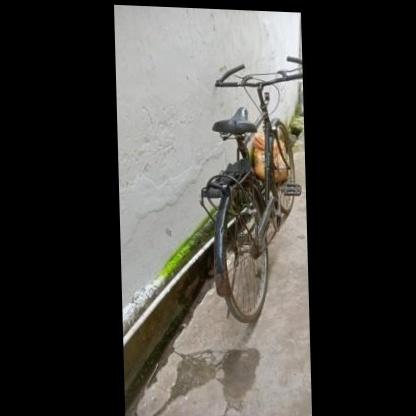Bicycle: (142, 47, 297, 331)
